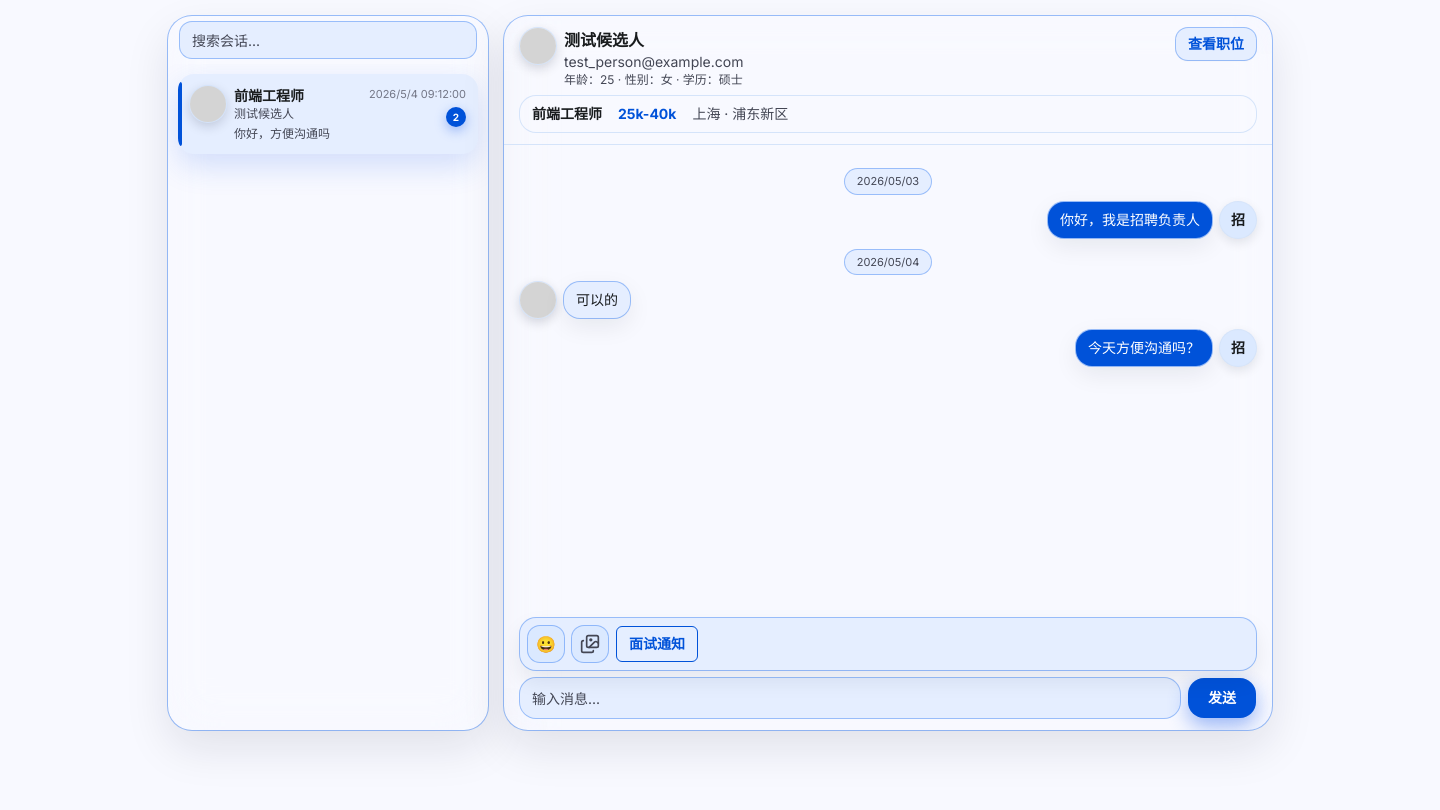
Test: chat workspace redesign › renders enterprise workspace without resume button and keeps interview action
This screenshot has width=1440, height=810.
Check: the 2nd text "测试候选人" is shown, box [234, 106, 294, 121]
Check: the text "test_person@example.com" is shown, box [564, 52, 744, 72]
Click the button "面试通知" at (657, 644), box [616, 626, 698, 662]
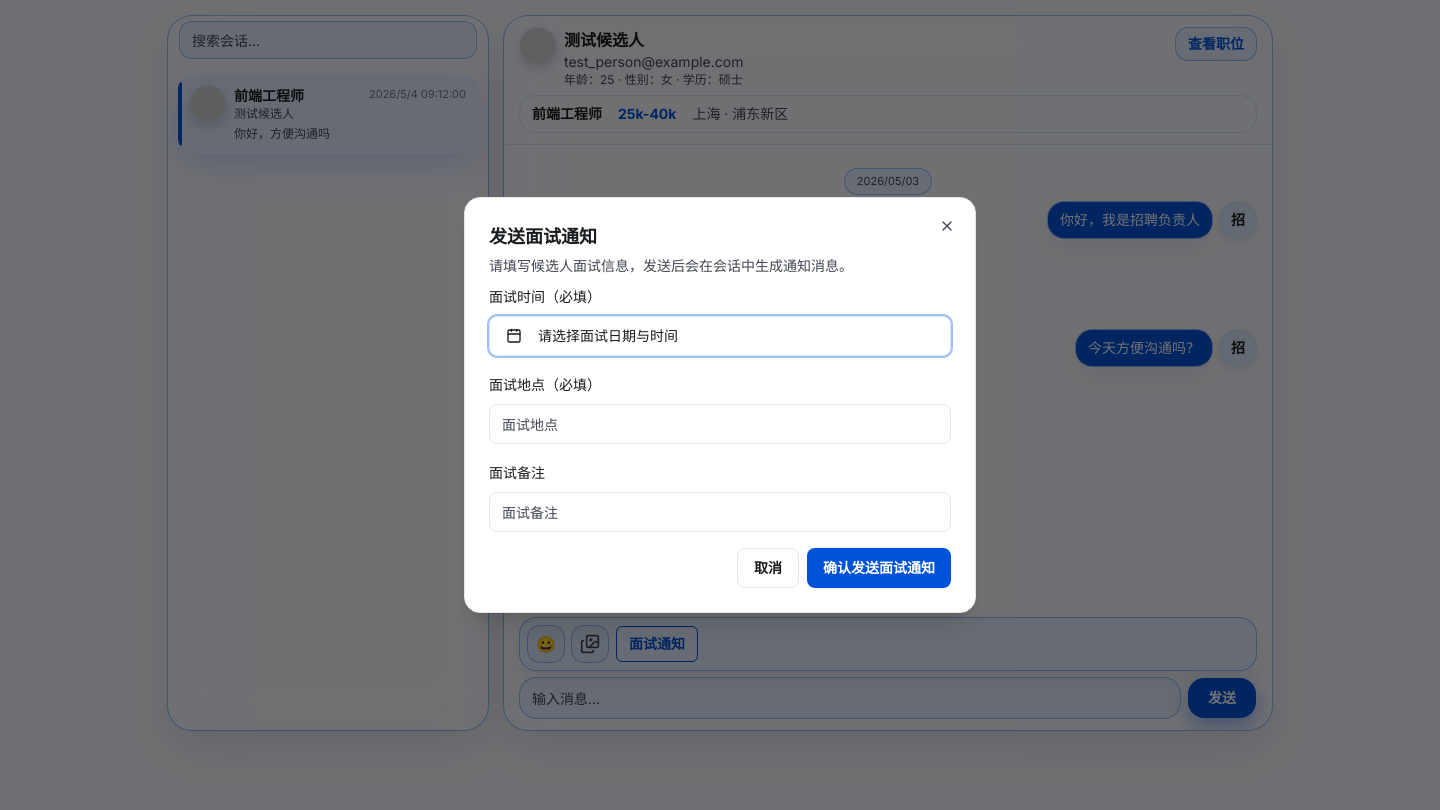
Check: the dialog "发送面试通知" is shown, box [464, 197, 976, 613]
